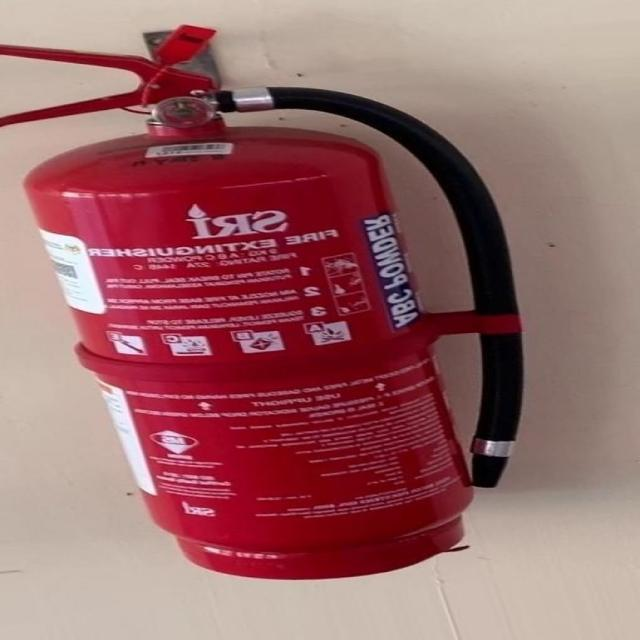fire_extinguisher: (3, 18, 519, 579)
